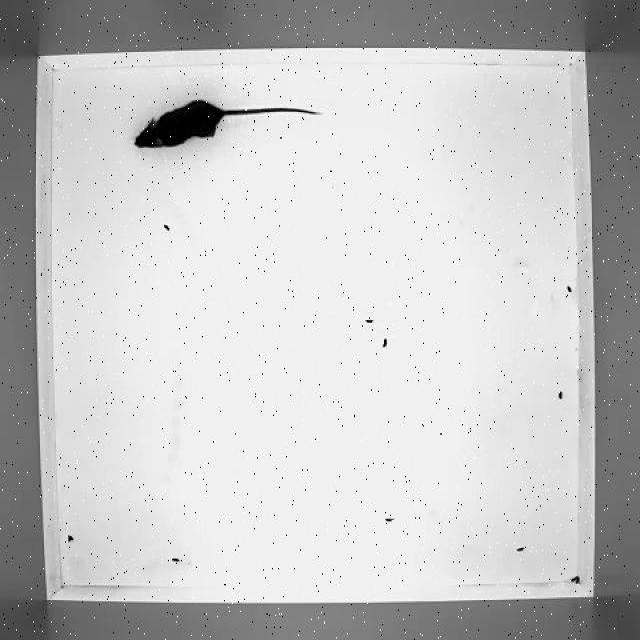rat: (131, 97, 323, 151)
